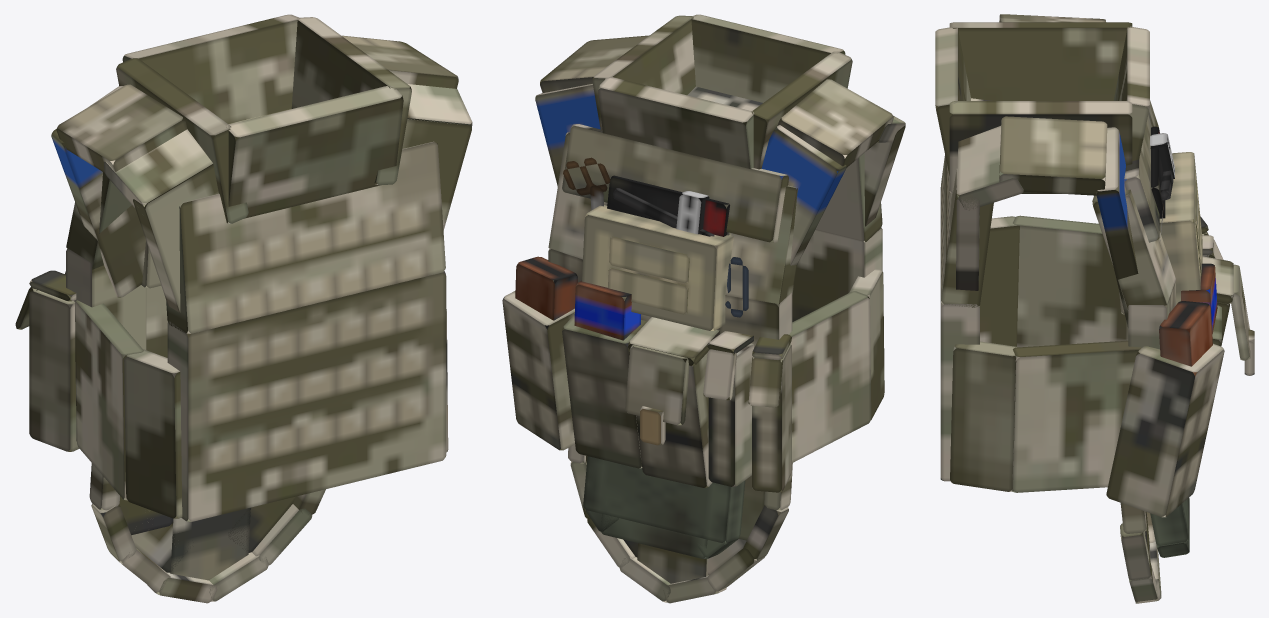
Rendered from ukrainian_veteran.obj.
The picture shows the model from 3 angles, left to right: view 1: azimuth 30°, elevation 25°; view 2: azimuth 150°, elevation 25°; view 3: azimuth 270°, elevation 25°; orthographic projection. The views are drawn at different scales.
Parts seen in each view (by area): view 1: plane; view 2: plane; view 3: plane.
Part boxes in pixels (x1,y1,x2,y2): plane: (15, 14, 472, 603); plane: (502, 14, 905, 603); plane: (935, 14, 1254, 603).
Size of the model in its own units: 0.7271 by 1.13 by 0.6118.
